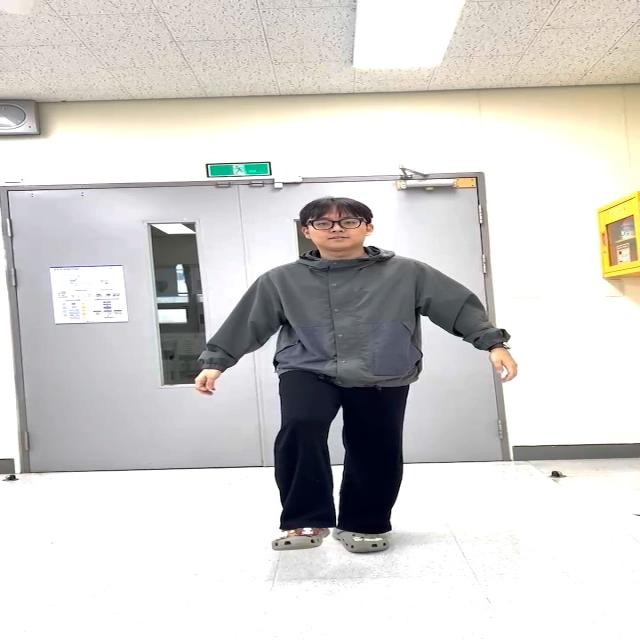leg: (234, 354, 353, 558)
